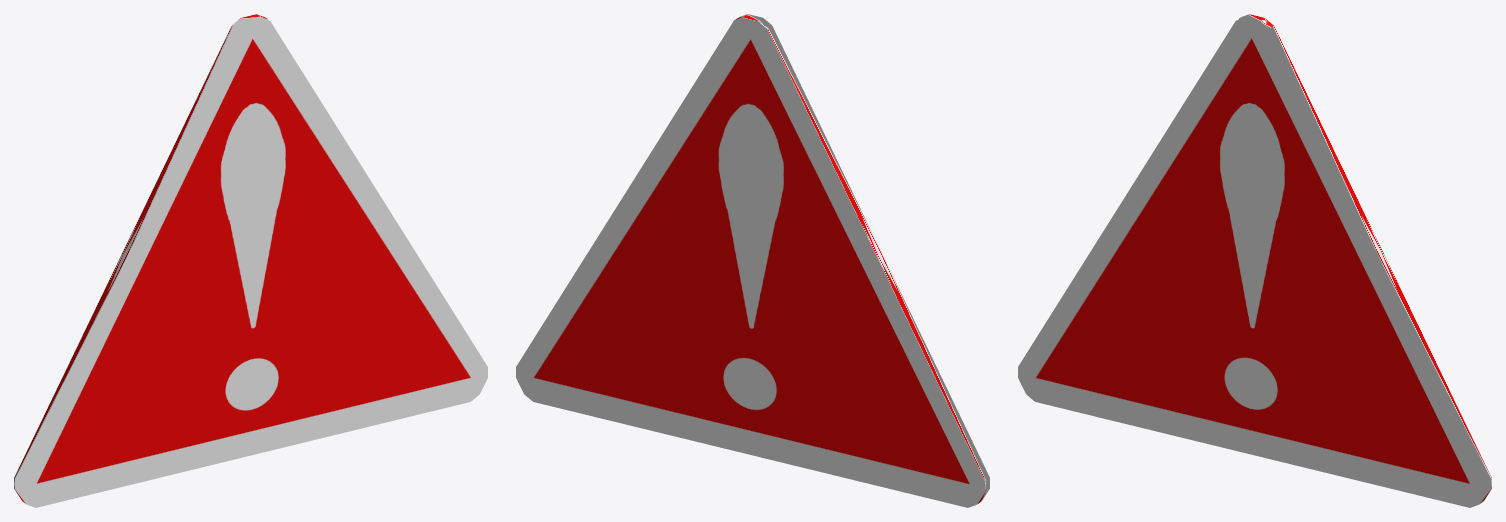
File: danger.FBX
The picture shows the model from 3 angles, left to right: view 1: azimuth 30°, elevation 25°; view 2: azimuth 150°, elevation 25°; view 3: azimuth 330°, elevation 25°; orthographic projection.
Visible parts, largest first — view 1: Box001; view 2: Box001; view 3: Box001.
Part boxes in pixels (x1,y1,x2,y2): Box001: [14, 14, 487, 507]; Box001: [516, 14, 989, 507]; Box001: [1018, 14, 1491, 507].
Size of the model in its own units: 74.57 by 1.37 by 66.15.
Materials: 1 (1 with a texture image).
